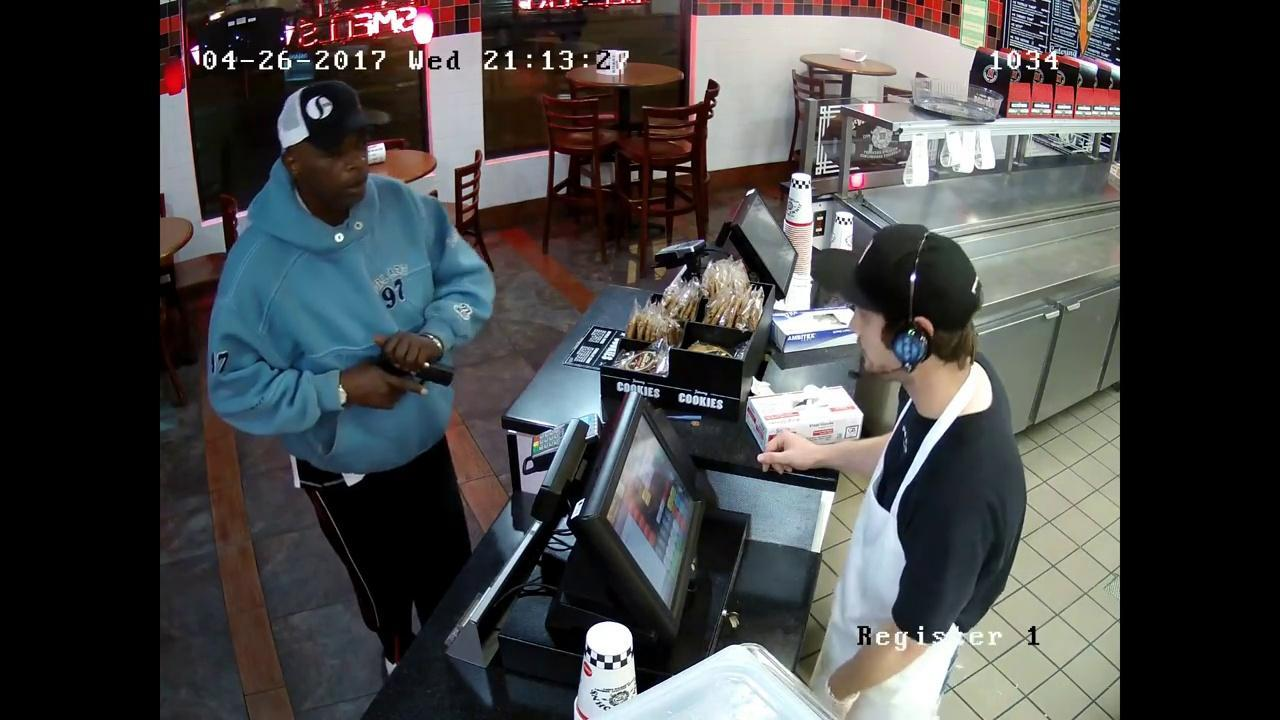Guns: (341, 339, 469, 403)
